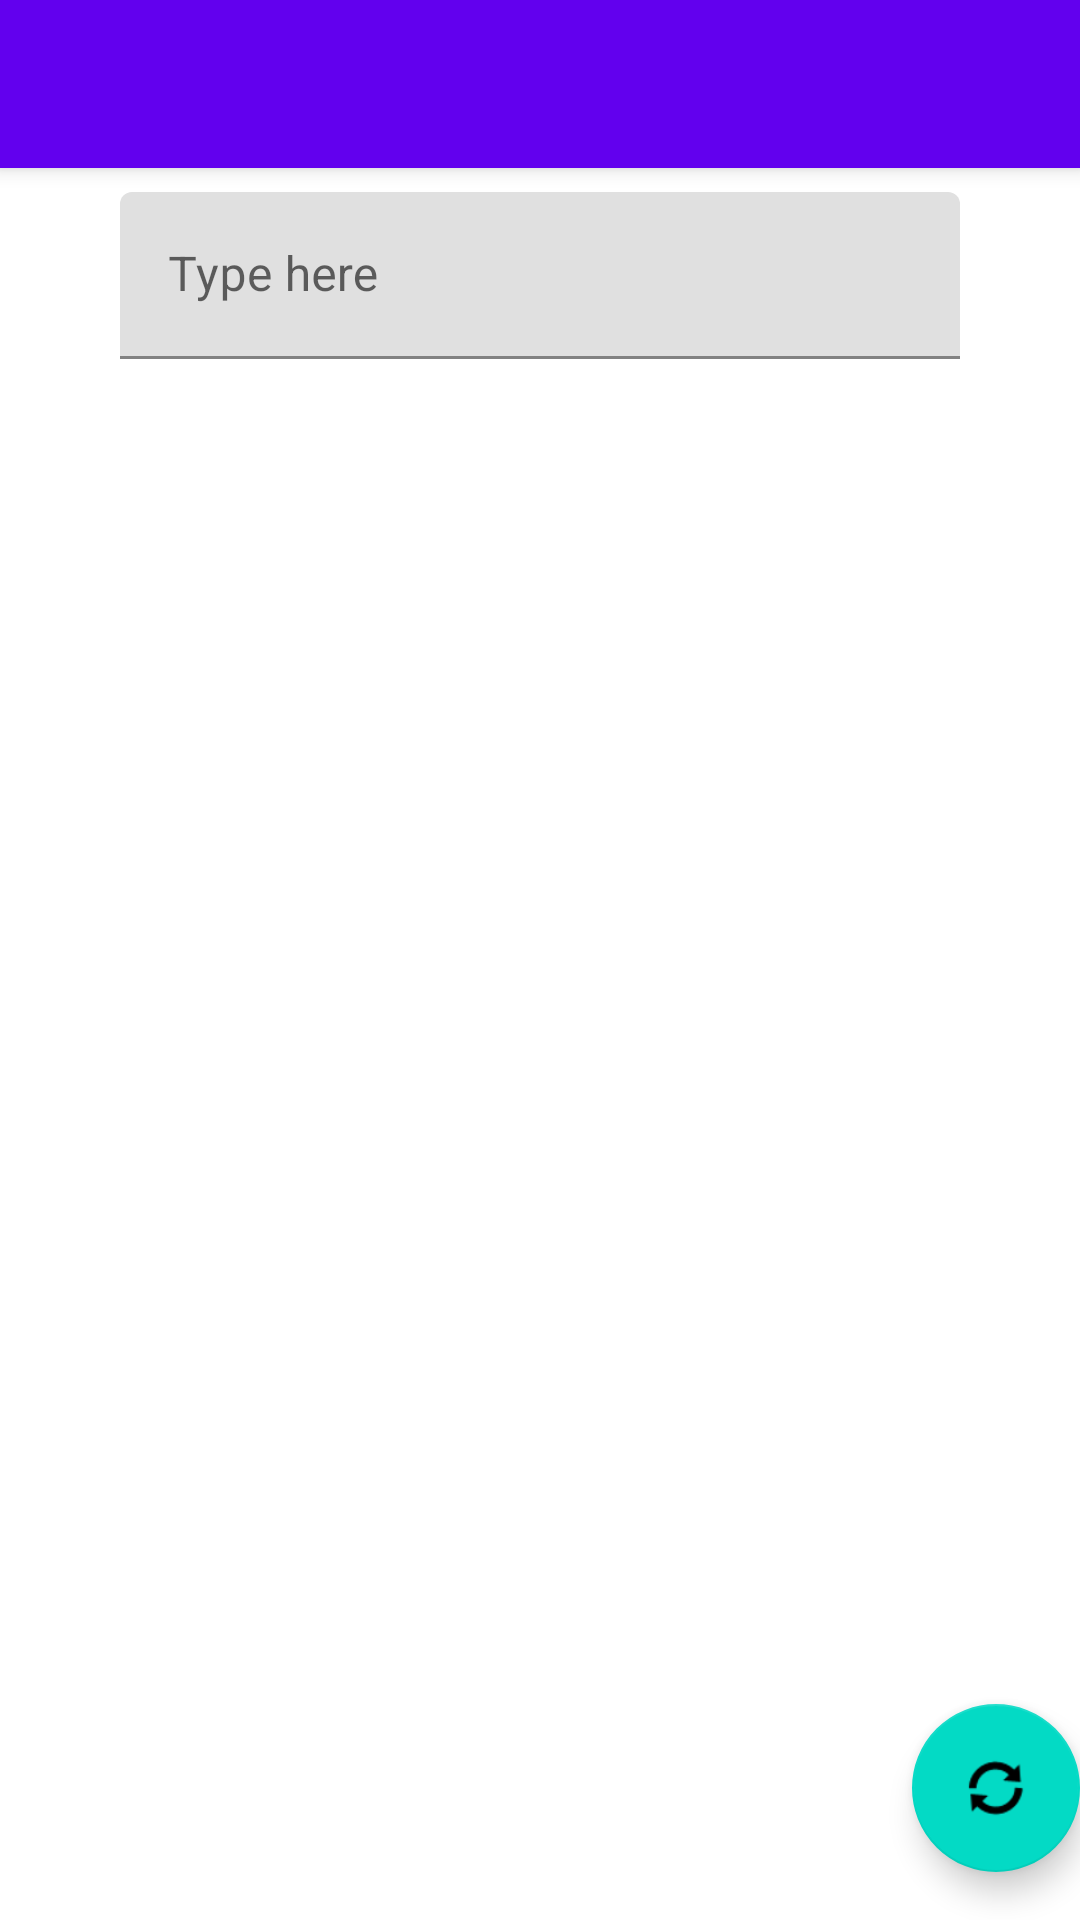

Point at icon controls on the screen. Image size 1080w x 1920h, points as [x,y].
popup sync: [996,1788]
